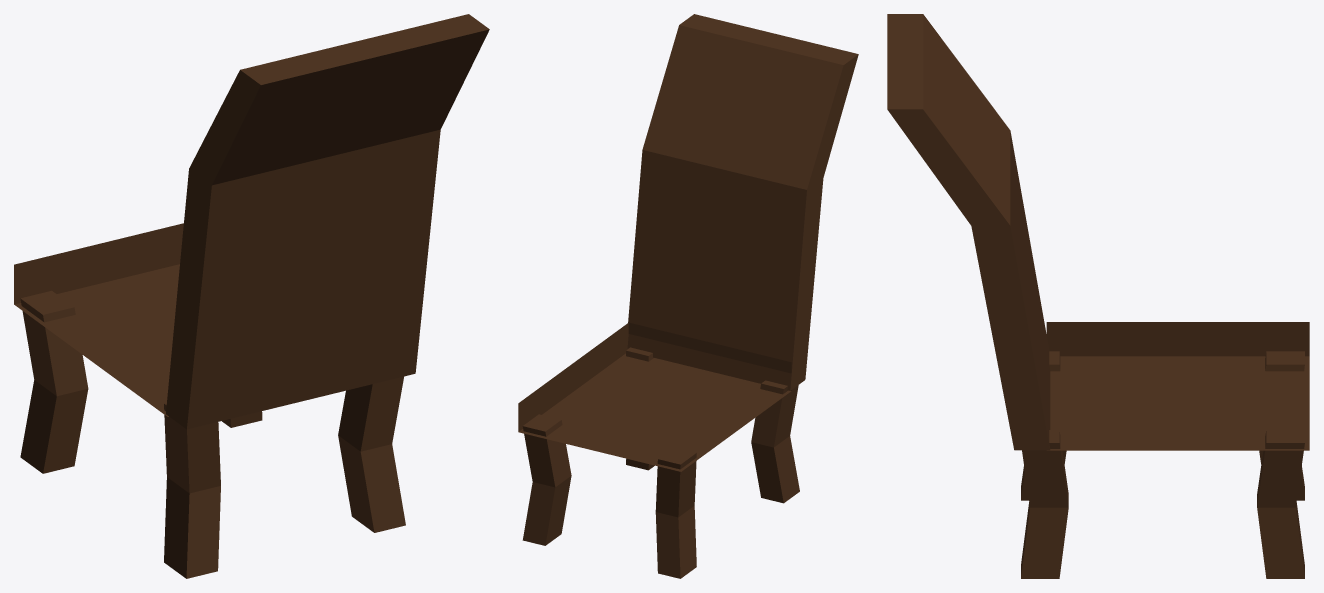
The model's file is tool.fbx.
The picture shows the model from 3 angles, left to right: view 1: azimuth 30°, elevation 25°; view 2: azimuth 150°, elevation 25°; view 3: azimuth 270°, elevation 25°; orthographic projection. The views are drawn at different scales.
Parts seen in each view (by area): view 1: Cube.016; view 2: Cube.016; view 3: Cube.016.
Part boxes in pixels (x1,y1,x2,y2): Cube.016: (14, 14, 489, 578); Cube.016: (518, 14, 858, 578); Cube.016: (887, 14, 1309, 578).
Bounding box in the file's own units: 19.12 × 44.07 × 35.75.
